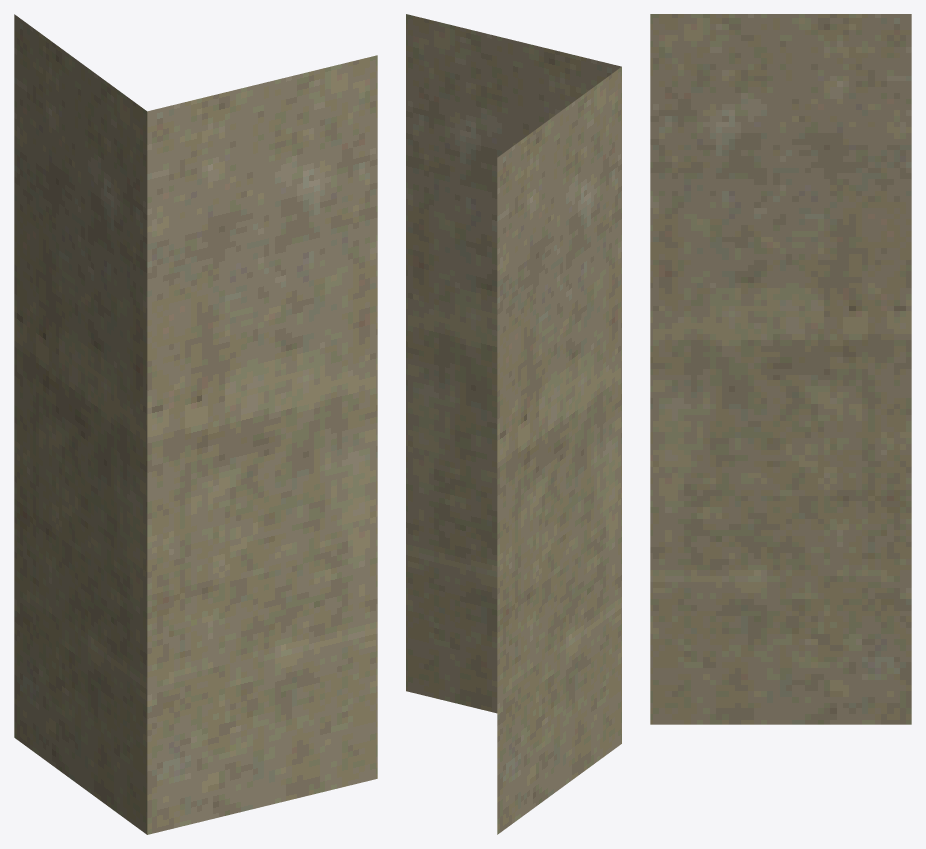
File: stuco_wall_corner.glb
3 views of the same model, side by side, from view 1: azimuth 30°, elevation 25°; view 2: azimuth 150°, elevation 25°; view 3: azimuth 270°, elevation 25° (orthographic). The views are drawn at different scales.
Parts seen in each view (by area): view 1: stuco_wall_corner; view 2: stuco_wall_corner; view 3: stuco_wall_corner.
Part boxes in pixels (<box>): stuco_wall_corner: <box>14,14,377,834</box>; stuco_wall_corner: <box>406,14,621,834</box>; stuco_wall_corner: <box>650,14,911,724</box>.
Size of the model in its own units: 1 by 3 by 1.
Materials: 1 (1 with a texture image).
